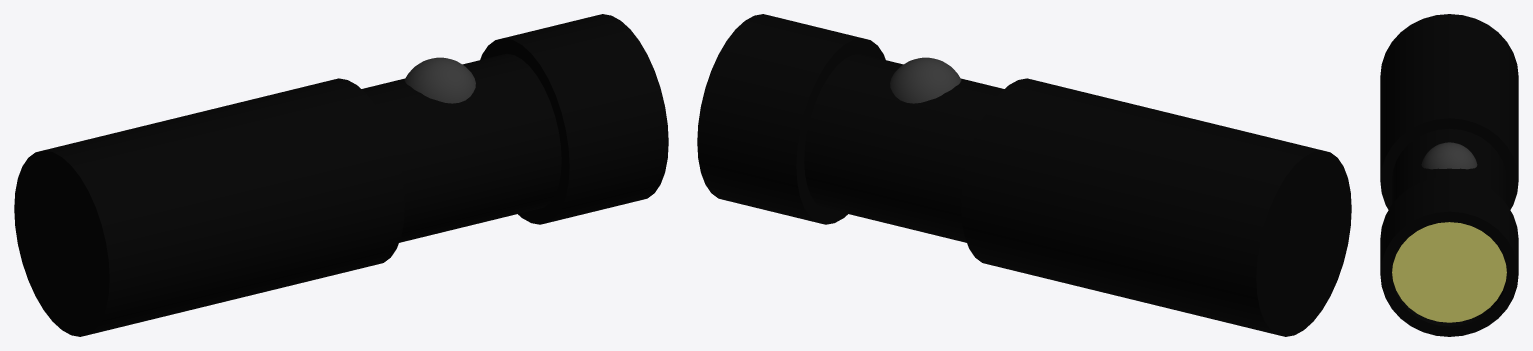
Rendered from Torch.fbx.
3 views of the same model, side by side, from view 1: azimuth 30°, elevation 25°; view 2: azimuth 150°, elevation 25°; view 3: azimuth 270°, elevation 25° (orthographic). The views are drawn at different scales.
Visible parts, largest first — view 1: Cylinder.003; view 2: Cylinder.003; view 3: Cylinder.003.
Part boxes in pixels (x1,y1,x2,y2): Cylinder.003: [14, 14, 668, 336]; Cylinder.003: [697, 14, 1351, 336]; Cylinder.003: [1380, 14, 1518, 336].
Bounding box in the file's own units: 811 × 245 × 240.
